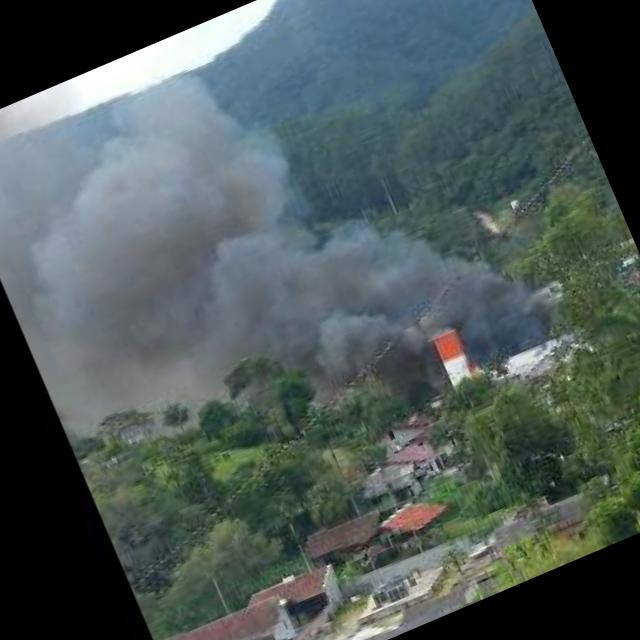fire: (471, 354, 488, 373)
smoke: (0, 15, 354, 453), (191, 150, 529, 422)
